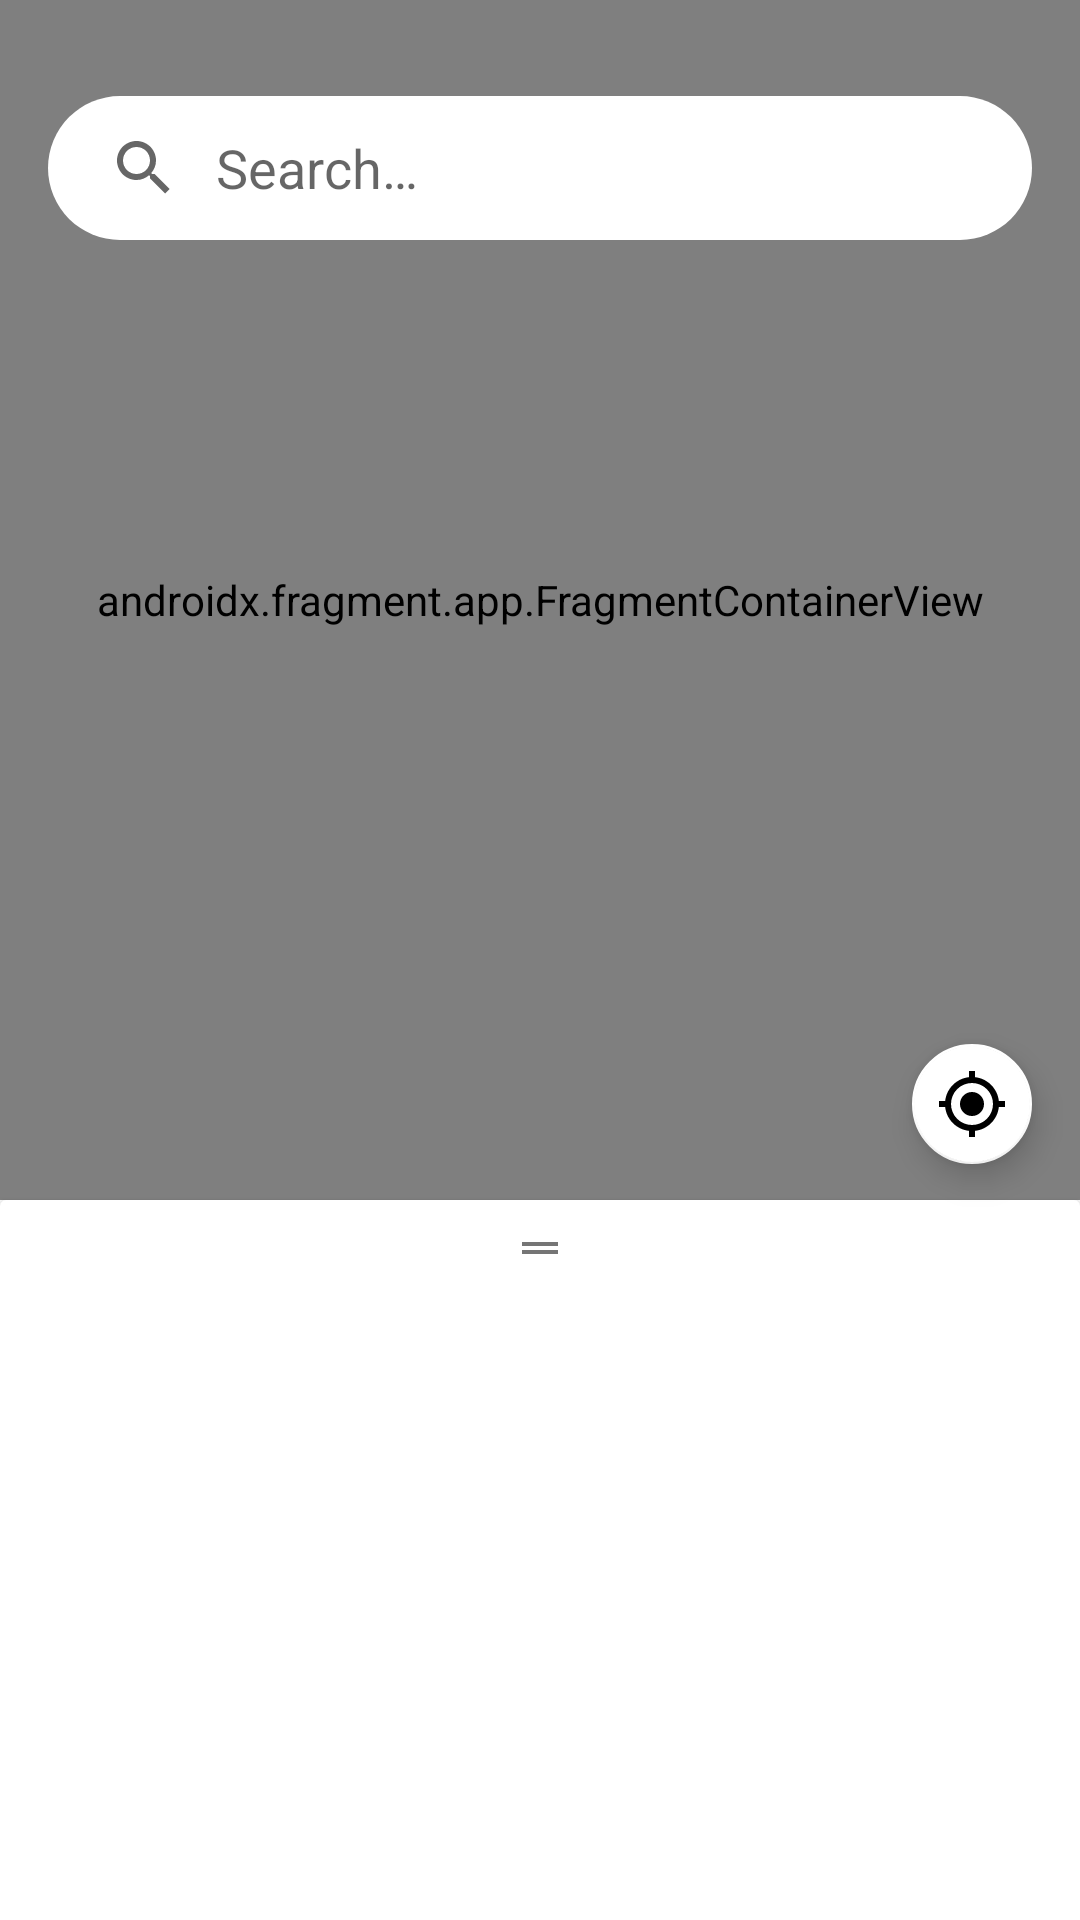

Where icons sit on this 1080 × 1920 app screen, as (x1, y1, x2, y2):
drag horizontal variant: (522, 1242, 558, 1254)
